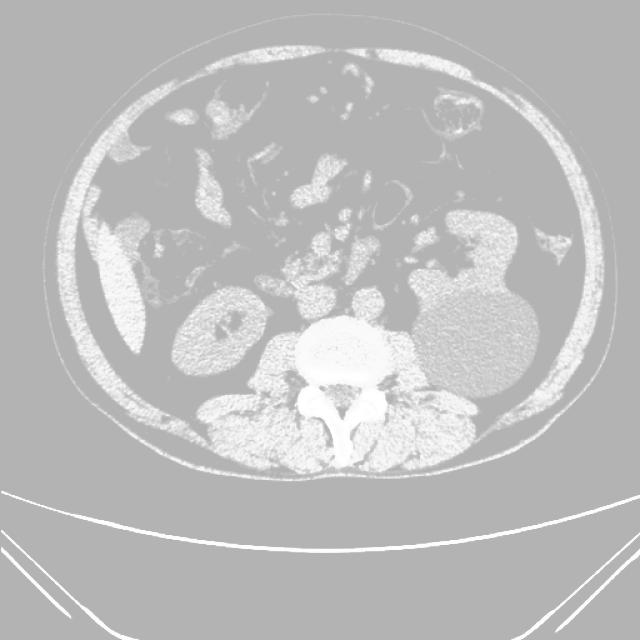cysts: (50, 39, 602, 480)
